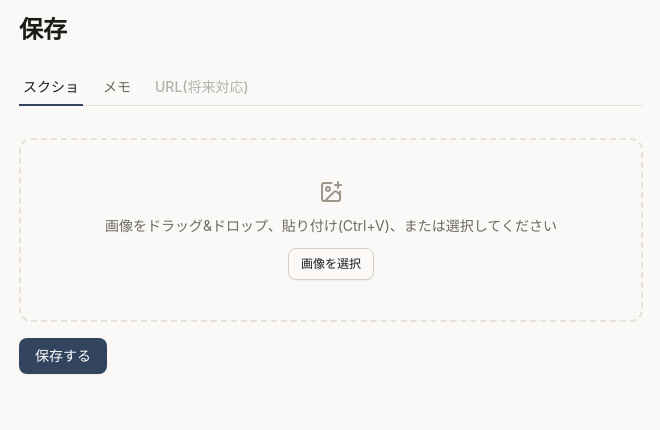
Test: SaveNotePage › スクショタブ › 画像未選択で送信するとバリデーションエラーを表示する
The image size is (660, 430).
Click the button "保存する" at (63, 356), box left=19, top=338, right=107, bottom=374
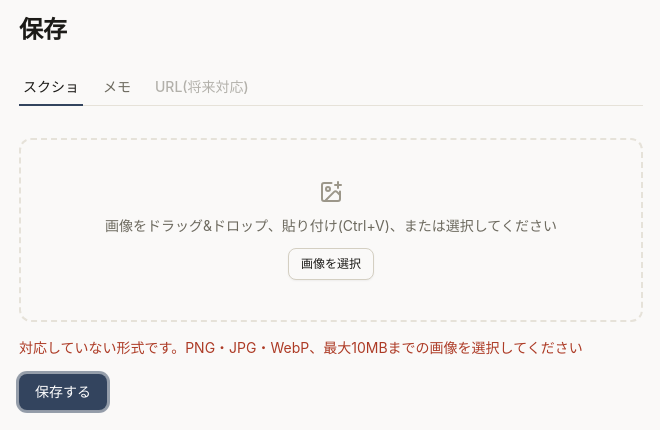
Result: the text "対応していない形式です。PNG・JPG・WebP、最大10MBまでの画像を選択してください" is shown at left=19, top=338, right=643, bottom=358
